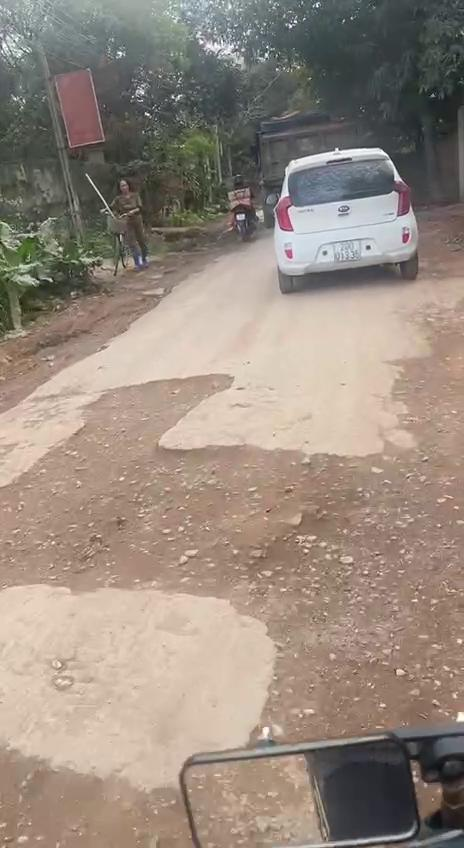pothole: (0, 374, 464, 630), (234, 618, 464, 752), (0, 741, 183, 848), (388, 295, 464, 456)
